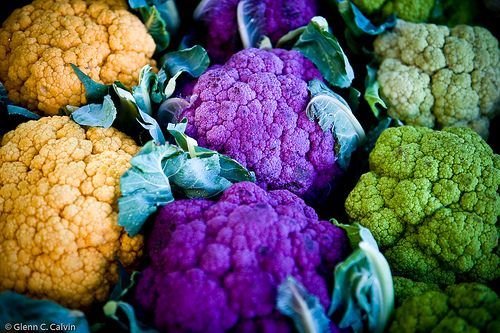cauliflower: (0, 115, 146, 311), (180, 49, 359, 193), (346, 124, 499, 287), (3, 0, 157, 112), (363, 17, 498, 143)
